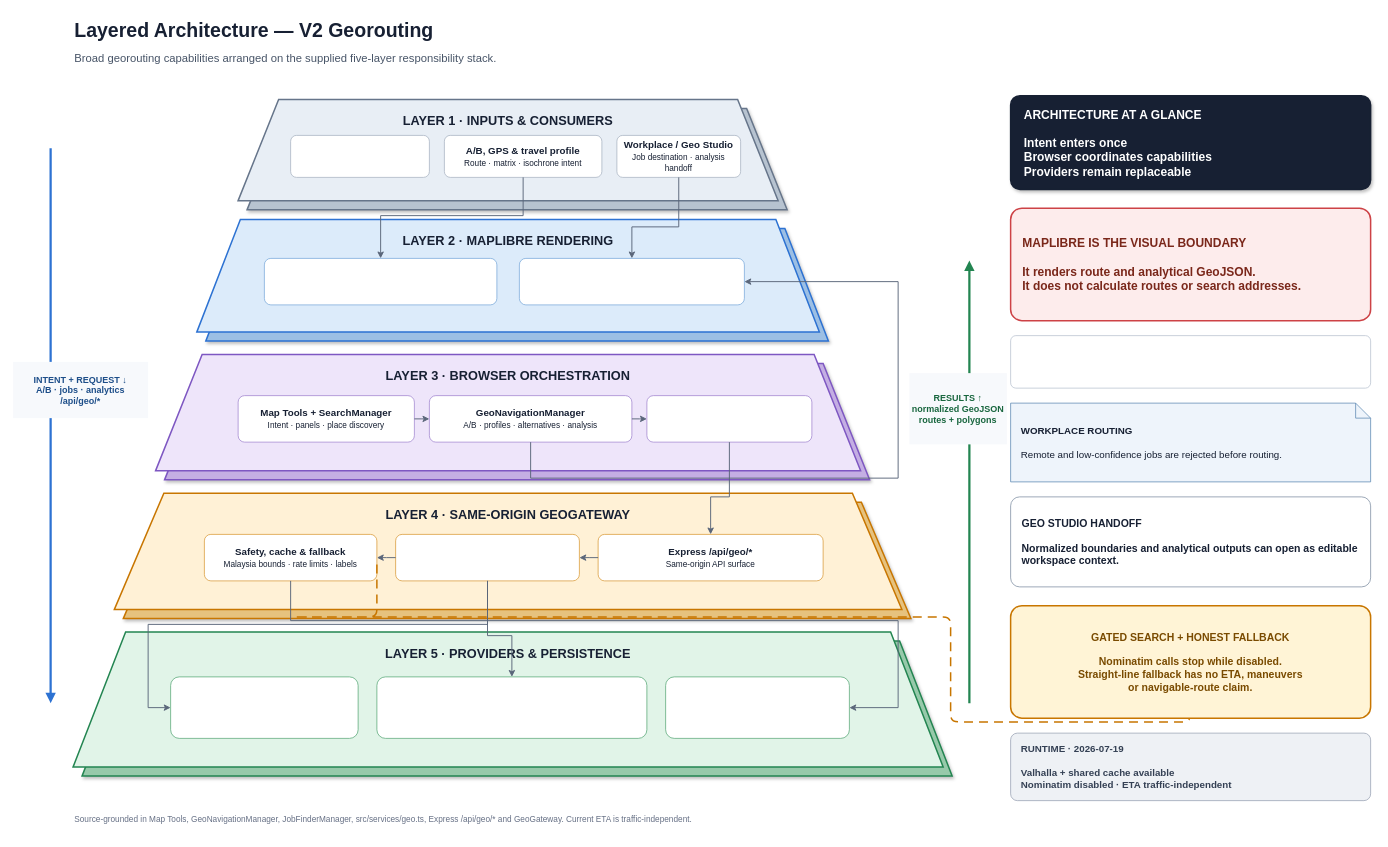
Some shapes in this 1388 by 847 pixel diagram are drawn without their labels. Here are the shapes that lost their labels. From the top down, the centre of each, then its label:
At (x=359, y=156): "Place, address & boundary Search · reverse · POI within".
At (x=380, y=281): "Routes & alternatives Lines · markers · maneuvers · camera fit".
At (x=631, y=281): "Analytical overlays Isochrones · boundaries · Geo Studio layers".
At (x=1190, y=361): "ANALYTICS Matrix + isochrone + boundary flows stay explicit.".
At (x=729, y=418): "JobFinder + geo client Workplace confidence · typed requests".
At (x=487, y=557): "GeoGateway Provider-neutral normalization".
At (x=264, y=707): "Nominatim · disabled Search · reverse · boundary lookup".
At (x=511, y=707): "Valhalla · enabled Routes · alternatives · matrix · isochrone".
At (x=757, y=707): "Supabase / PostGIS Routing cache · workplace resolutions".
